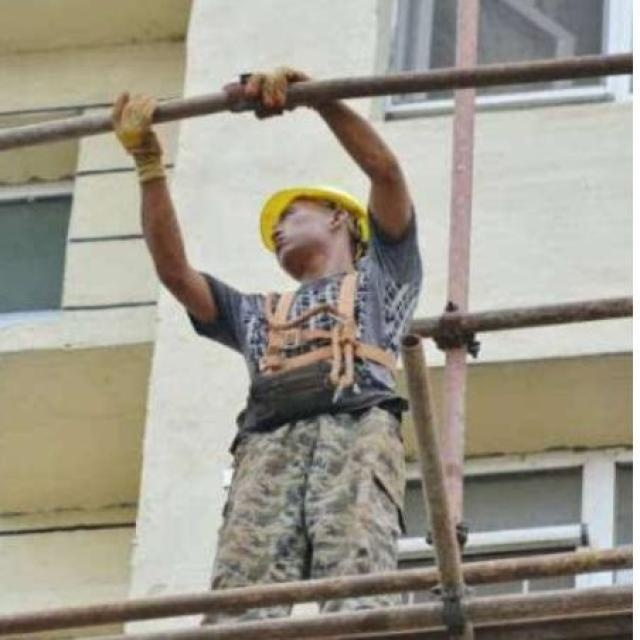Arnes_seguridad: (245, 264, 403, 377)
